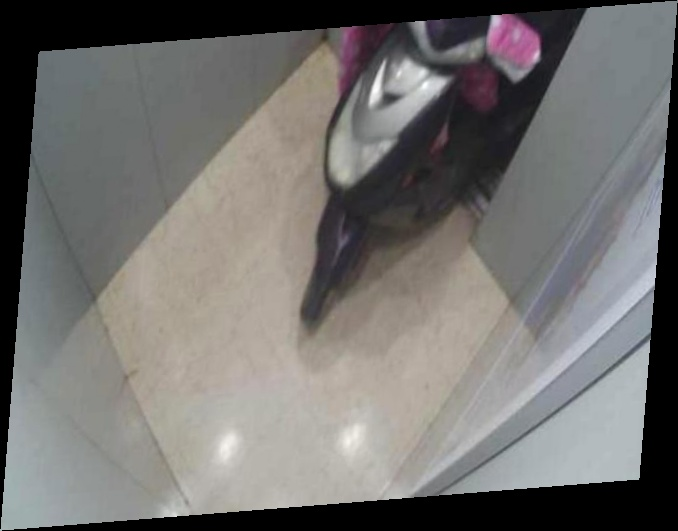electromobile: (272, 20, 562, 324)
